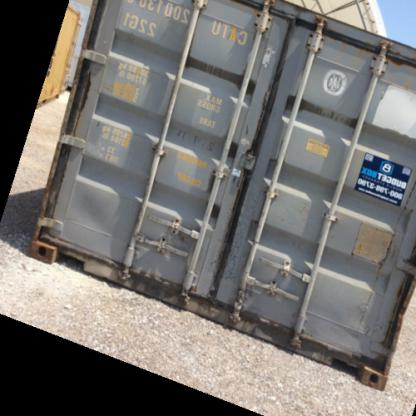Damage: (340, 219, 396, 286), (110, 261, 193, 301), (303, 100, 360, 135), (169, 122, 216, 153), (287, 0, 329, 32), (380, 47, 414, 72)
